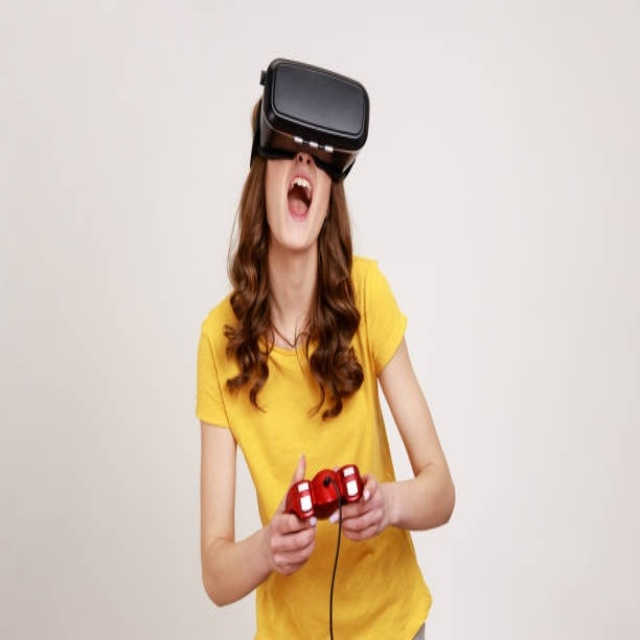Sin_guantes: (268, 452, 322, 579), (334, 472, 389, 542)
Sin_mascara: (283, 169, 315, 235)
